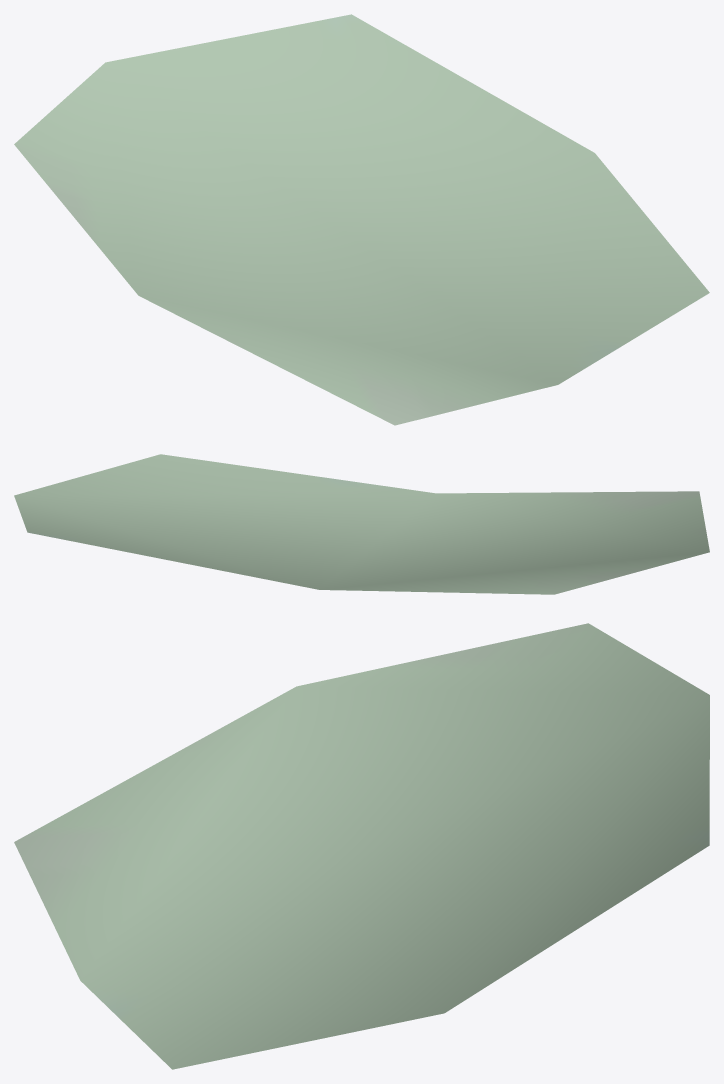
File: TROLLHOLE02_HOLECAP194.fbx
The picture shows the model from 3 angles, top to bottom: view 1: azimuth 30°, elevation 25°; view 2: azimuth 150°, elevation 25°; view 3: azimuth 270°, elevation 25°; orthographic projection. The views are drawn at different scales.
Visible parts, largest first — view 1: TROLLHOLE02_HOLECAP194; view 2: TROLLHOLE02_HOLECAP194; view 3: TROLLHOLE02_HOLECAP194.
Part boxes in pixels (box(x1,y1,x2,y2)): TROLLHOLE02_HOLECAP194: box(14, 14, 709, 425); TROLLHOLE02_HOLECAP194: box(14, 454, 709, 594); TROLLHOLE02_HOLECAP194: box(14, 623, 709, 1069).
Bounding box in the file's own units: 13148 × 3947 × 13315.
1 material, 1 textured.
